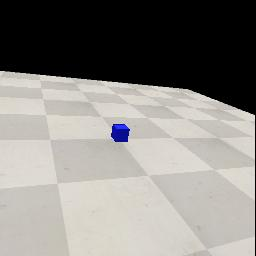box: (111, 124, 130, 142)
